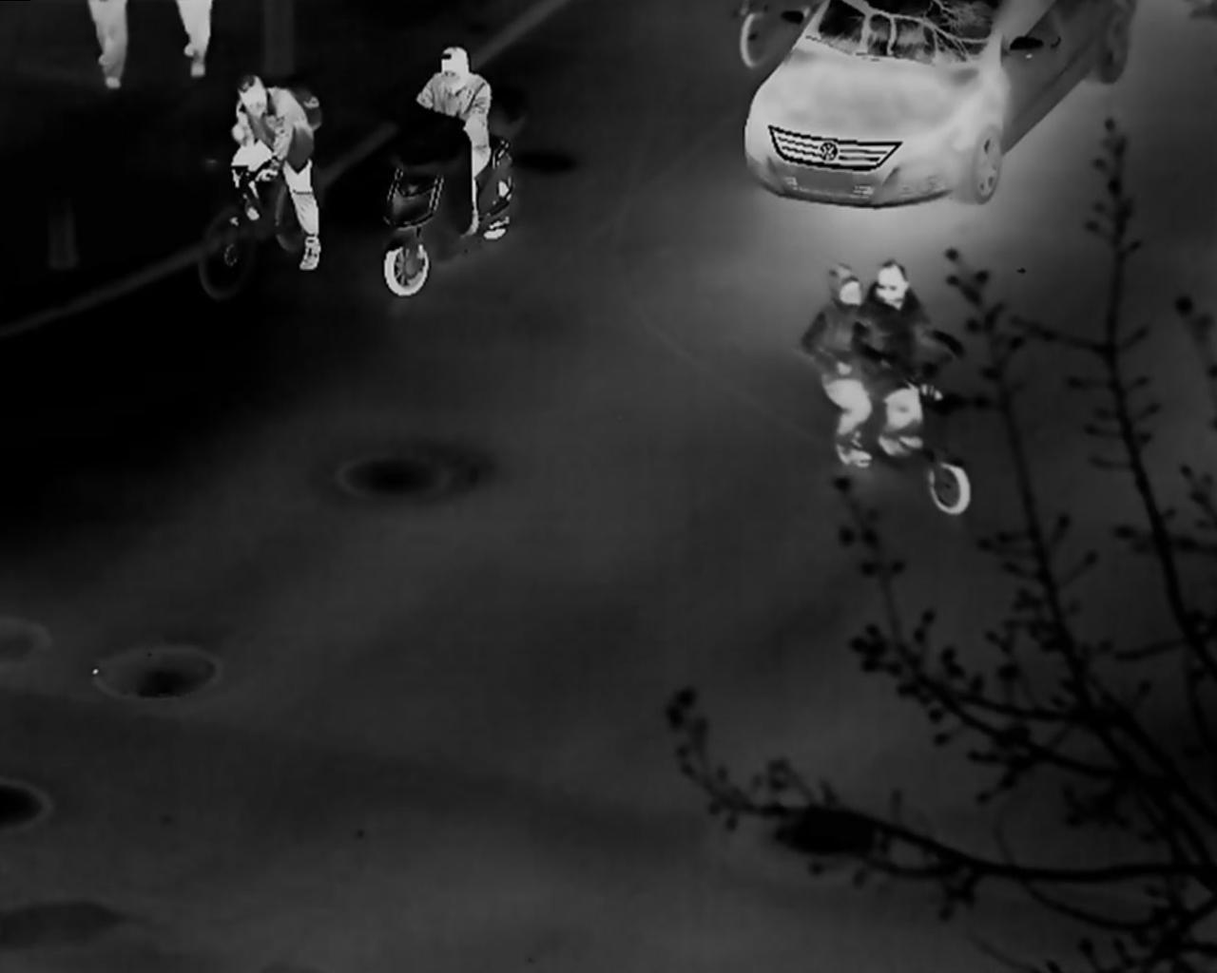person: (225, 71, 320, 275), (848, 258, 937, 467), (798, 262, 871, 466), (416, 46, 492, 238), (180, 2, 215, 82)
